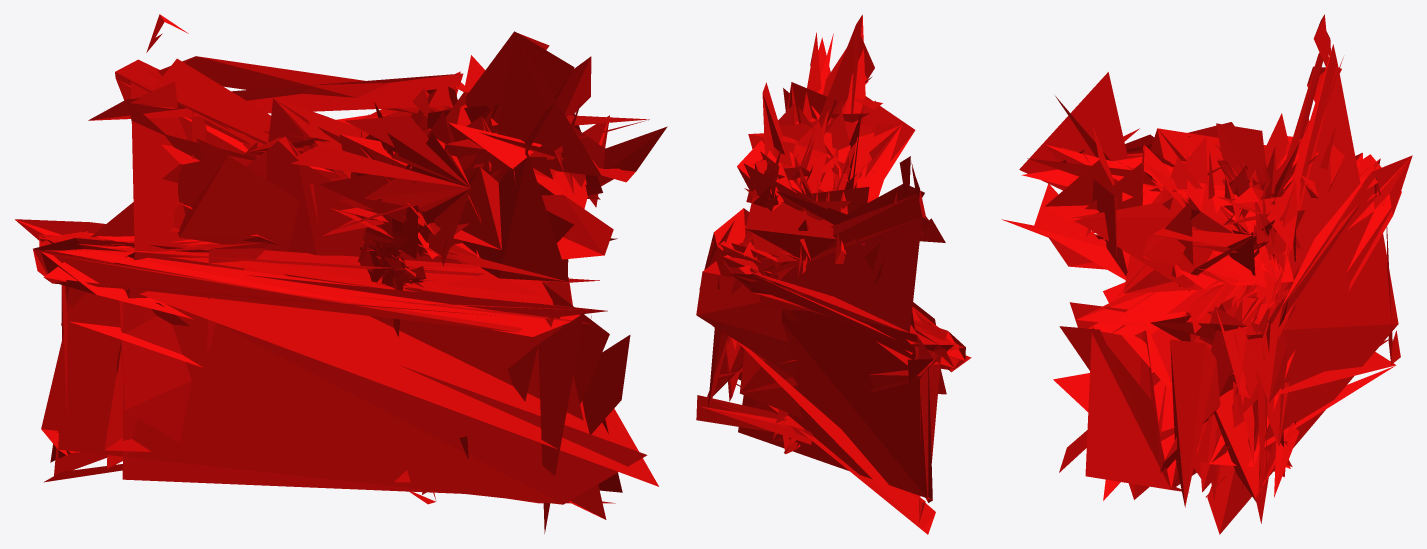
3 renders of one model, left to right at view 1: azimuth 30°, elevation 25°; view 2: azimuth 150°, elevation 25°; view 3: azimuth 270°, elevation 25°, orthographic. The views are drawn at different scales.
Parts seen in each view (by area): view 1: Renderer Node; view 2: Renderer Node; view 3: Renderer Node.
Boxes of the visible parts, x1,y1,x2,y2 form: Renderer Node: [15, 14, 667, 533]; Renderer Node: [696, 14, 971, 534]; Renderer Node: [1001, 14, 1412, 534].
Size of the model in its own units: 0.5876 by 0.6726 by 0.5888.
Materials: 1 (1 with a texture image).
